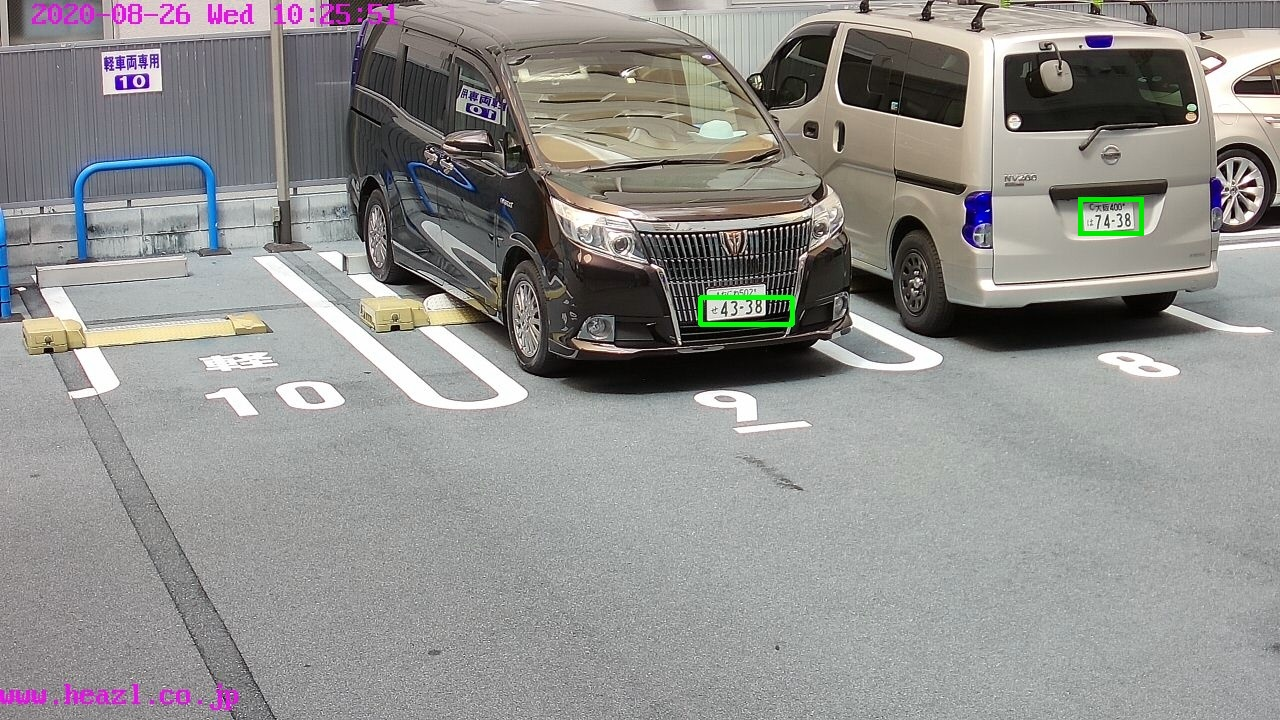number_plate: (707, 290, 770, 318), (1085, 202, 1135, 231)
